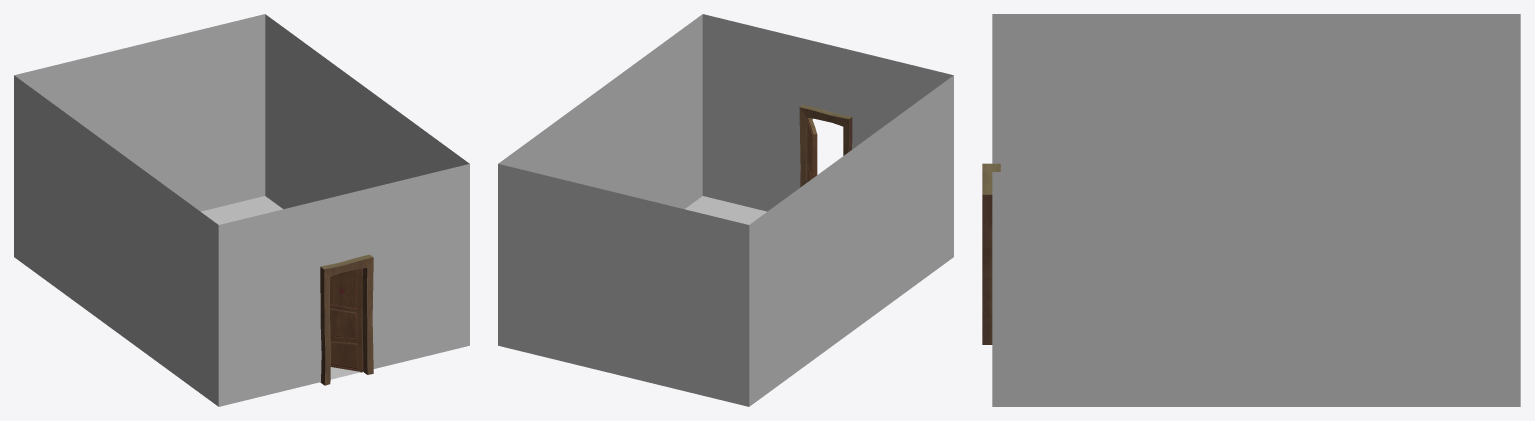
File: Kitchen.fbx
3 renders of one model, left to right at view 1: azimuth 30°, elevation 25°; view 2: azimuth 150°, elevation 25°; view 3: azimuth 270°, elevation 25°, orthographic. The views are drawn at different scales.
Visible parts, largest first — view 1: Cube.017, Cube.001, Door.001; view 2: Cube.001, Cube.017, Door.001; view 3: Cube.001, Cube.017, Door.001.
Boxes of the visible parts, <box> form: Cube.017: <box>14,75,469,406</box>; Cube.001: <box>14,14,469,379</box>; Door.001: <box>320,254,373,385</box>; Cube.001: <box>498,14,766,406</box>; Cube.017: <box>702,14,953,406</box>; Door.001: <box>799,105,852,187</box>; Cube.001: <box>992,172,1520,406</box>; Cube.017: <box>992,14,1520,171</box>; Door.001: <box>982,163,1000,344</box>.
Size of the model in its own units: 289 by 202 by 416.
